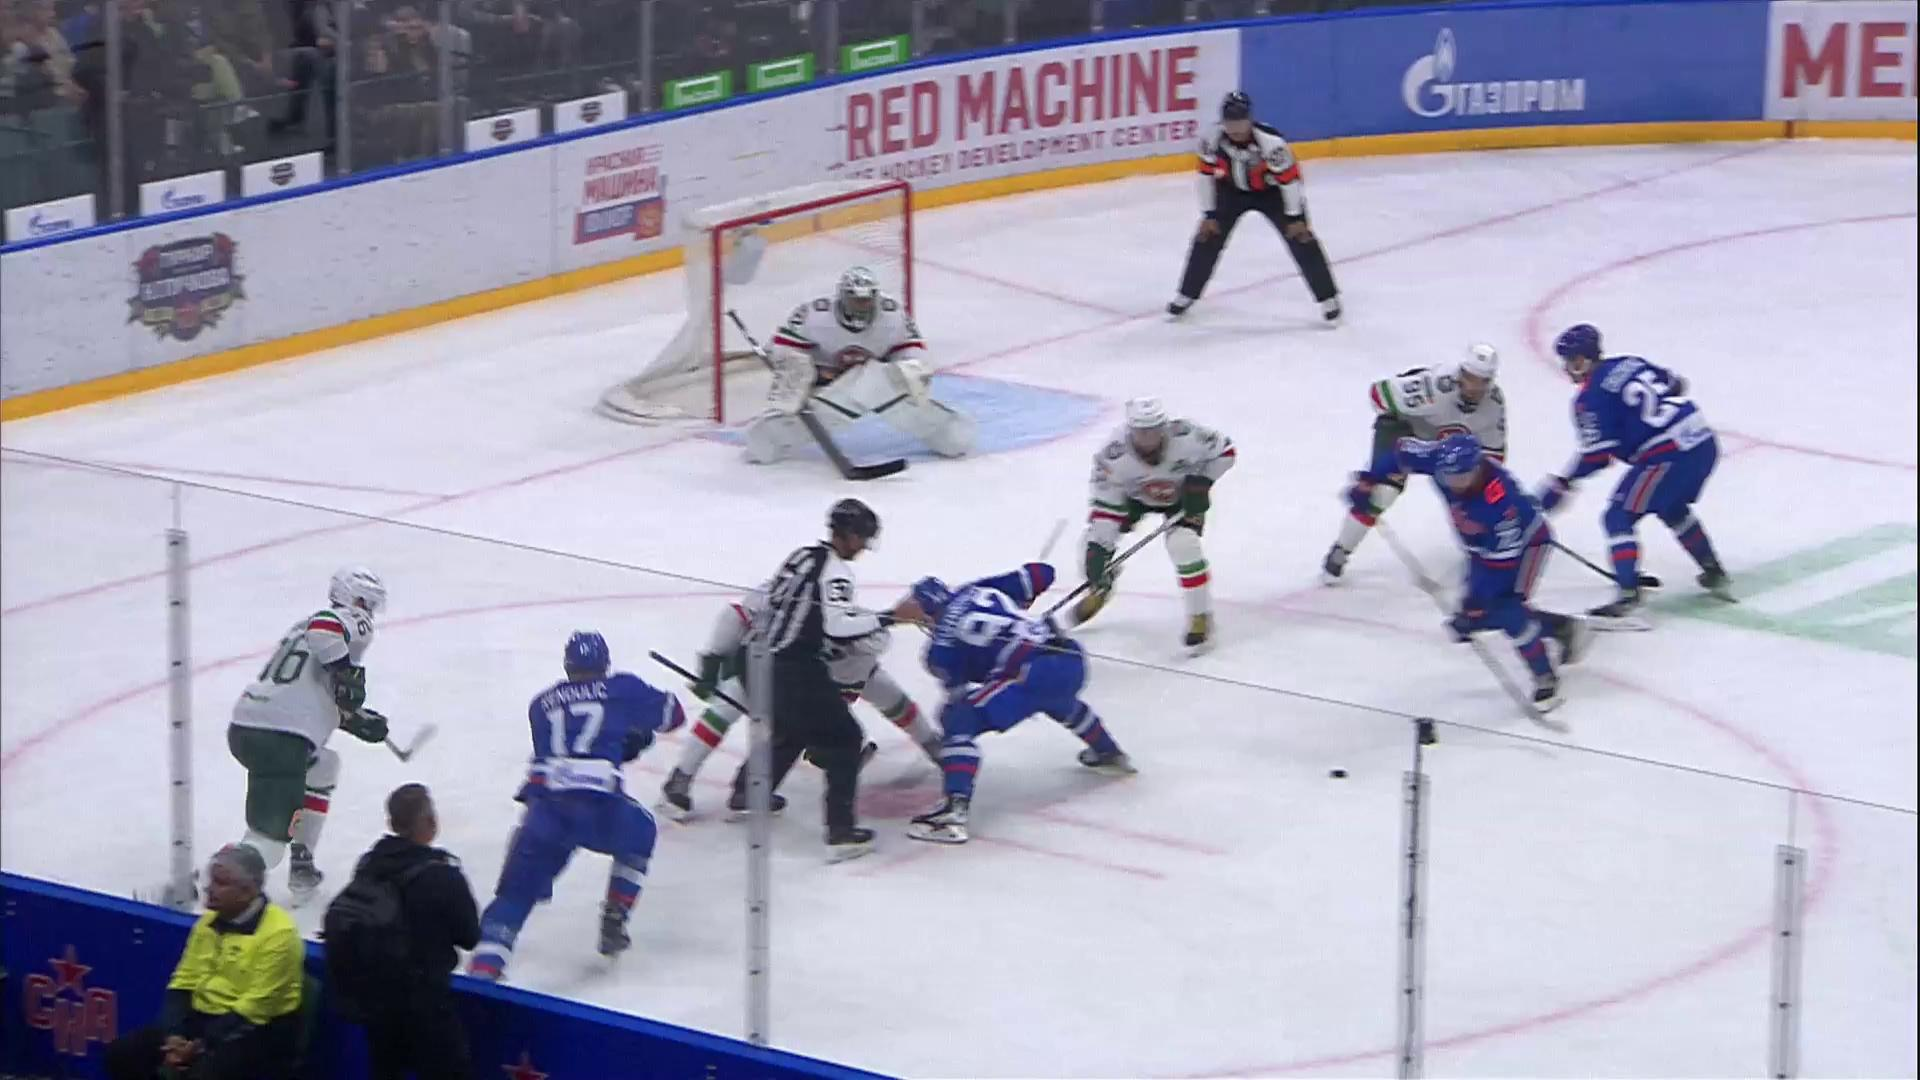ball: (1329, 769, 1349, 781)
